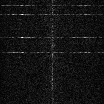wifi: (1, 3, 104, 6), (1, 12, 104, 15), (1, 35, 104, 38), (1, 50, 104, 53)
